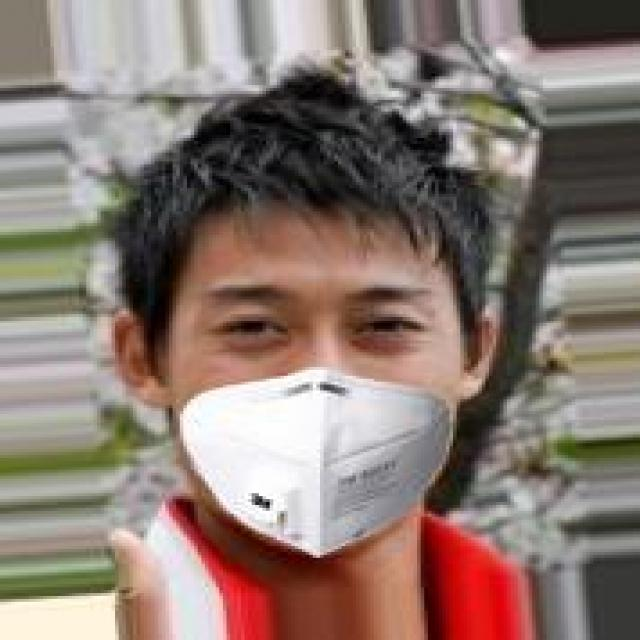mask: (148, 155, 514, 558)
